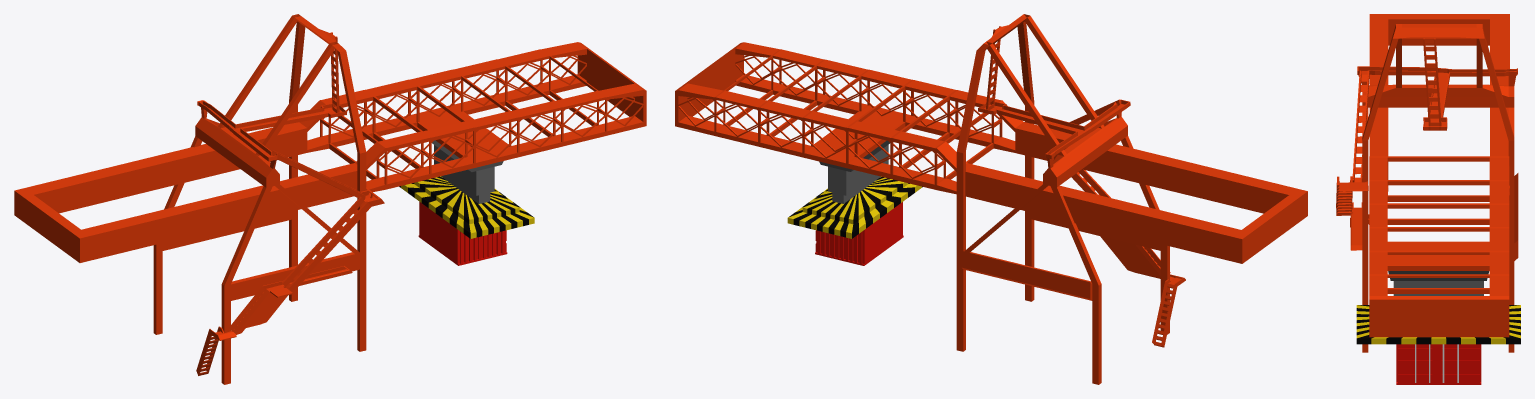
Rendered from crane.glb.
3 renders of one model, left to right at view 1: azimuth 30°, elevation 25°; view 2: azimuth 150°, elevation 25°; view 3: azimuth 270°, elevation 25°, orthographic. The views are drawn at different scales.
Visible parts, largest first — view 1: Cube.001; view 2: Cube.001; view 3: Cube.001.
Boxes of the visible parts, left/top/right/bottom form: Cube.001: left=14, top=14, right=646, bottom=384; Cube.001: left=675, top=14, right=1307, bottom=384; Cube.001: left=1336, top=14, right=1520, bottom=384.
Bounding box in the file's own units: 1199 × 604 × 317.
